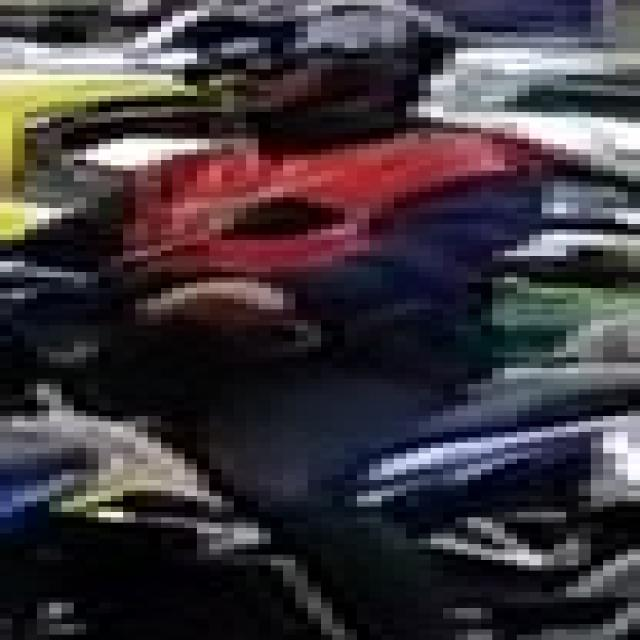helmet: (110, 0, 455, 133)
